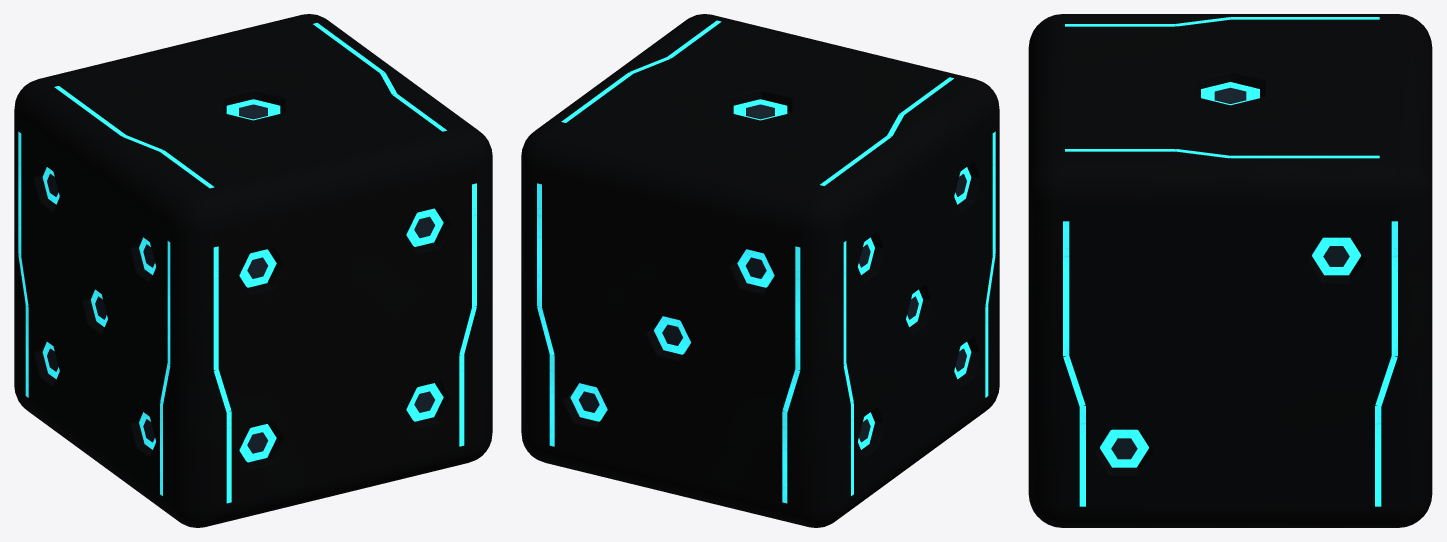
The model's file is sci-fi.glb.
The picture shows the model from 3 angles, left to right: view 1: azimuth 30°, elevation 25°; view 2: azimuth 150°, elevation 25°; view 3: azimuth 270°, elevation 25°; orthographic projection. The views are drawn at different scales.
Visible parts, largest first — view 1: MM_Die_sci-fi; view 2: MM_Die_sci-fi; view 3: MM_Die_sci-fi.
Boxes of the visible parts, x1,y1,x2,y2 form: MM_Die_sci-fi: (14, 14, 492, 527); MM_Die_sci-fi: (521, 14, 999, 527); MM_Die_sci-fi: (1028, 14, 1432, 527).
Size of the model in its own units: 0.0295 by 0.0295 by 0.0295.
23 materials, 2 textured.
